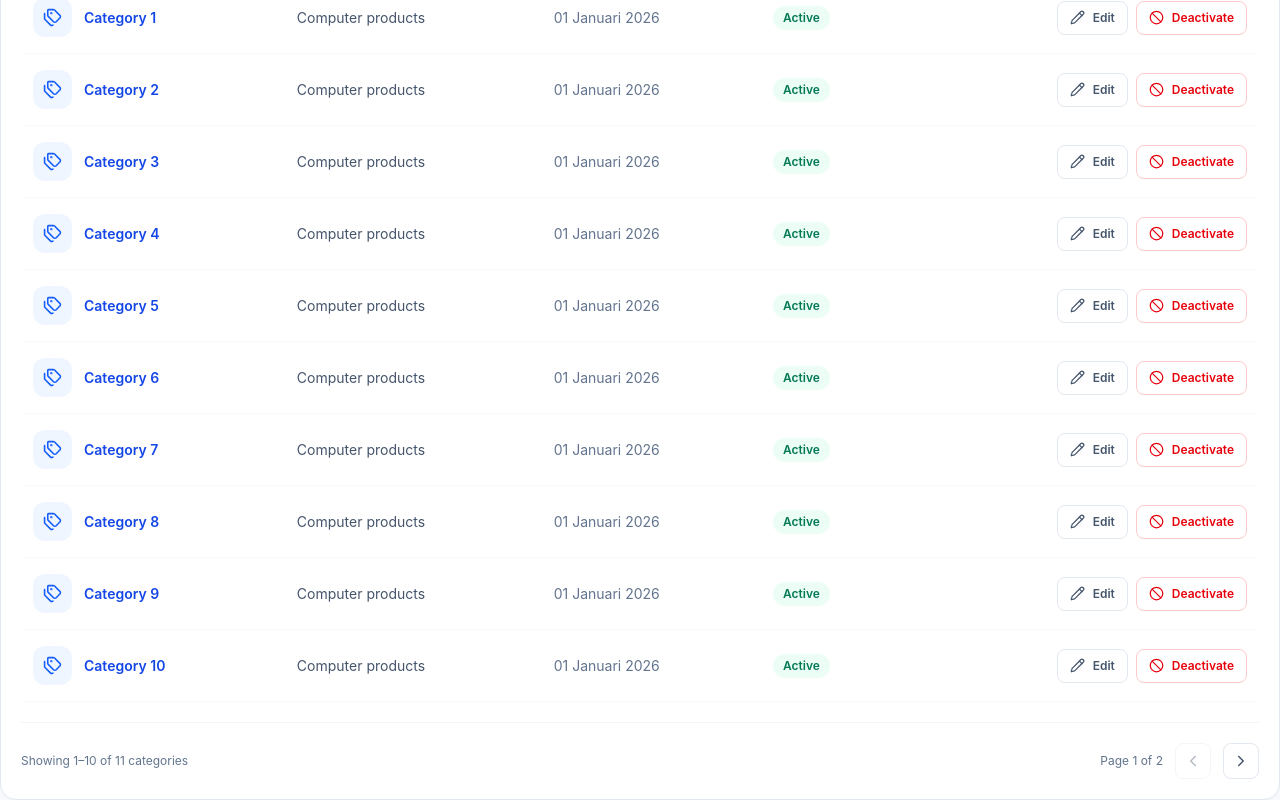
Test: CategoriesPage › supports pagination
(page scrolled)
Expected: the link "Category 1" is shown, 84,8 -> 156,28
Expected: the text "Page 1 of 2" is shown, 1100,753 -> 1163,769
Click the button named "Next page" at (1241, 761), box 1223,743 -> 1259,779
(page scrolled)
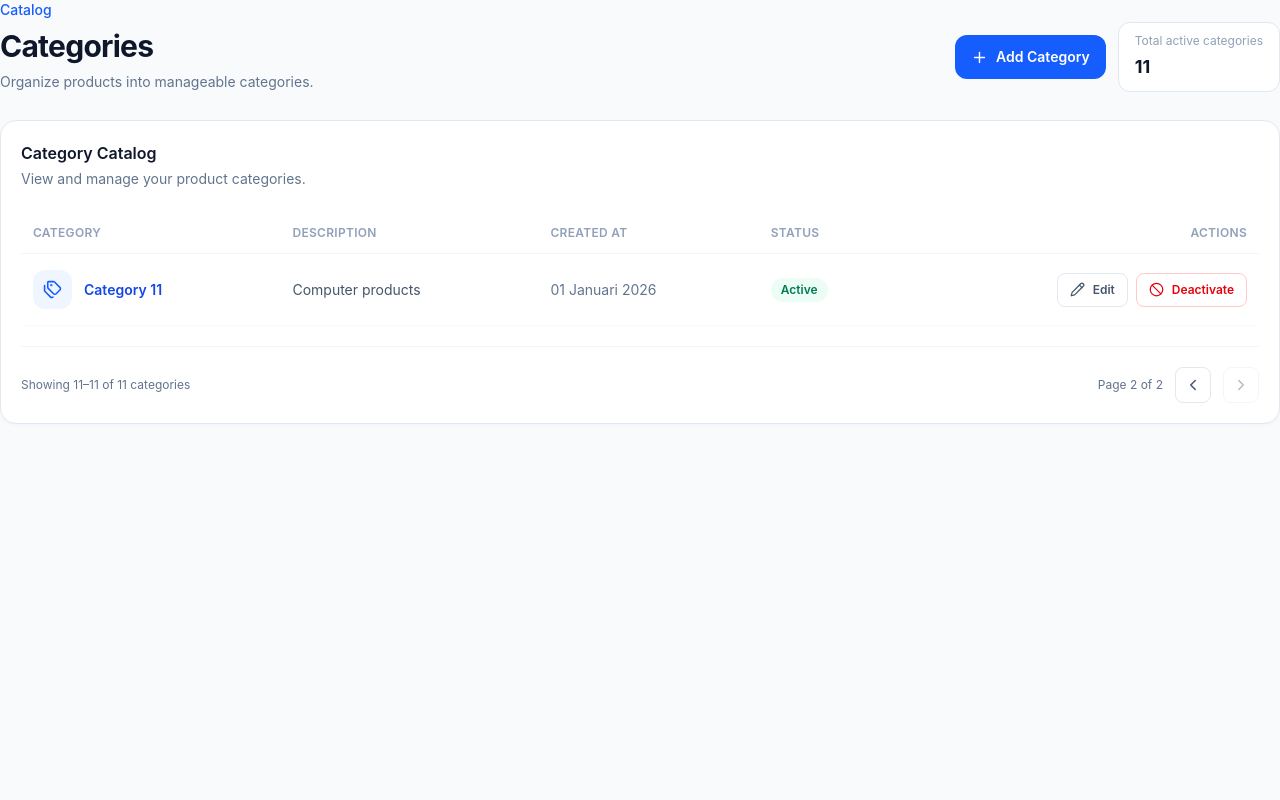
Expected: the link "Category 11" is shown, 84,280 -> 162,300
Expected: the text "Page 2 of 2" is shown, 1098,377 -> 1163,393
